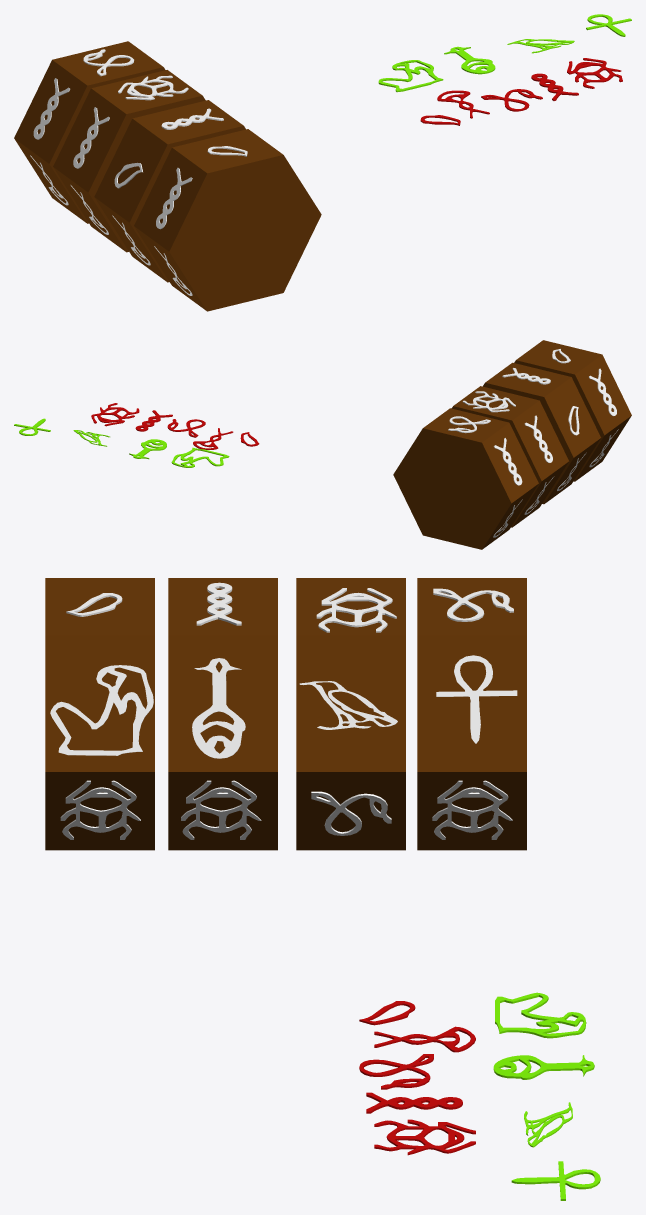
The model's file is Heiroglyphs dial.fbx.
3 renders of one model, top to bottom at view 1: azimuth 30°, elevation 25°; view 2: azimuth 150°, elevation 25°; view 3: azimuth 270°, elevation 25°, orthographic. The views are drawn at different scales.
Visible parts, largest first — view 1: Group25, Group13, Group15, Group14, Group31, Group5, Group10, Group6, r2, r4, r3, Group30 (+5 smaller); view 2: Group14, Group13, Group25, Group15, Group31, Group10, Group5, Group6, r3, r2, r4, Group30; view 3: Group15, Group14, Group25, Group13, Group17, Group22, Group2, Group4, Group29, Group10, Group31, Group5 (+10 smaller).
Boxes of the visible parts, left/top/right/bottom form: Group25: left=134, top=129, right=321, bottom=311; Group13: left=94, top=100, right=245, bottom=282; Group15: left=53, top=70, right=205, bottom=252; Group14: left=14, top=41, right=165, bottom=223; Group31: left=118, top=75, right=188, bottom=100; Group5: left=378, top=60, right=443, bottom=92; Group10: left=567, top=58, right=622, bottom=88; Group6: left=444, top=46, right=495, bottom=74; r2: left=73, top=107, right=109, bottom=168; r4: left=33, top=78, right=70, bottom=139; r3: left=156, top=167, right=192, bottom=229; Group30: left=83, top=49, right=134, bottom=76; Group14: left=393, top=408, right=538, bottom=549; Group13: left=483, top=362, right=600, bottom=504; Group25: left=514, top=340, right=631, bottom=481; Group15: left=451, top=386, right=568, bottom=527; Group31: left=462, top=391, right=515, bottom=412; Group10: left=91, top=403, right=139, bottom=426; Group5: left=171, top=447, right=229, bottom=467; Group6: left=129, top=439, right=166, bottom=459; r3: left=589, top=368, right=616, bottom=416; r2: left=524, top=415, right=552, bottom=462; r4: left=493, top=438, right=522, bottom=485; Group30: left=448, top=416, right=490, bottom=433; Group15: left=296, top=578, right=405, bottom=850; Group14: left=417, top=578, right=526, bottom=850; Group25: left=45, top=578, right=154, bottom=850; Group13: left=168, top=578, right=277, bottom=850; Group17: left=50, top=665, right=153, bottom=755; Group22: left=192, top=658, right=245, bottom=758; Group2: left=432, top=780, right=512, bottom=839; Group4: left=60, top=780, right=140, bottom=839; Group29: left=181, top=780, right=261, bottom=839; Group10: left=374, top=1119, right=475, bottom=1155; Group31: left=316, top=588, right=396, bottom=632; Group5: left=495, top=992, right=586, bottom=1038.
Size of the model in its own units: 5023 by 1104 by 2476.
